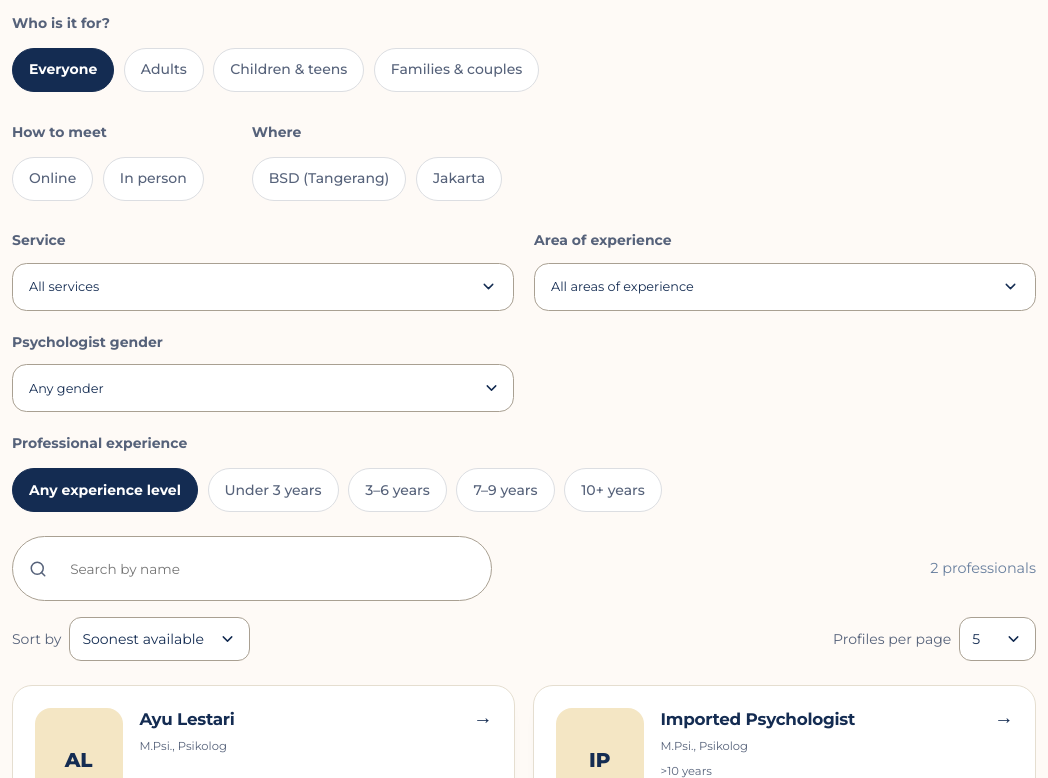
it: PsychologistSearch › filters database profiles with the service menu and experience pills
This screenshot has width=1048, height=778.
Check: the heading "Imported Psychologist →" is shown, box [661,708,1013,732]
Click the heading "All services" at (64, 287), box [12,263,514,311]
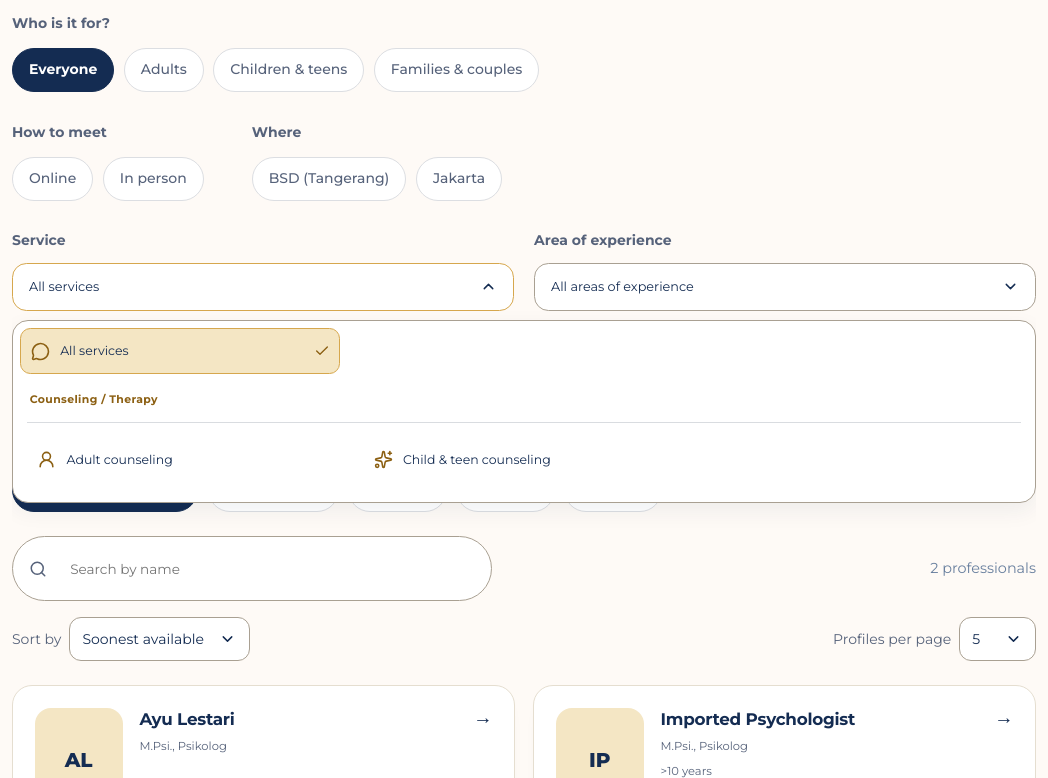
Click the button "Adult counseling" at (120, 459), box [27,437,349,483]
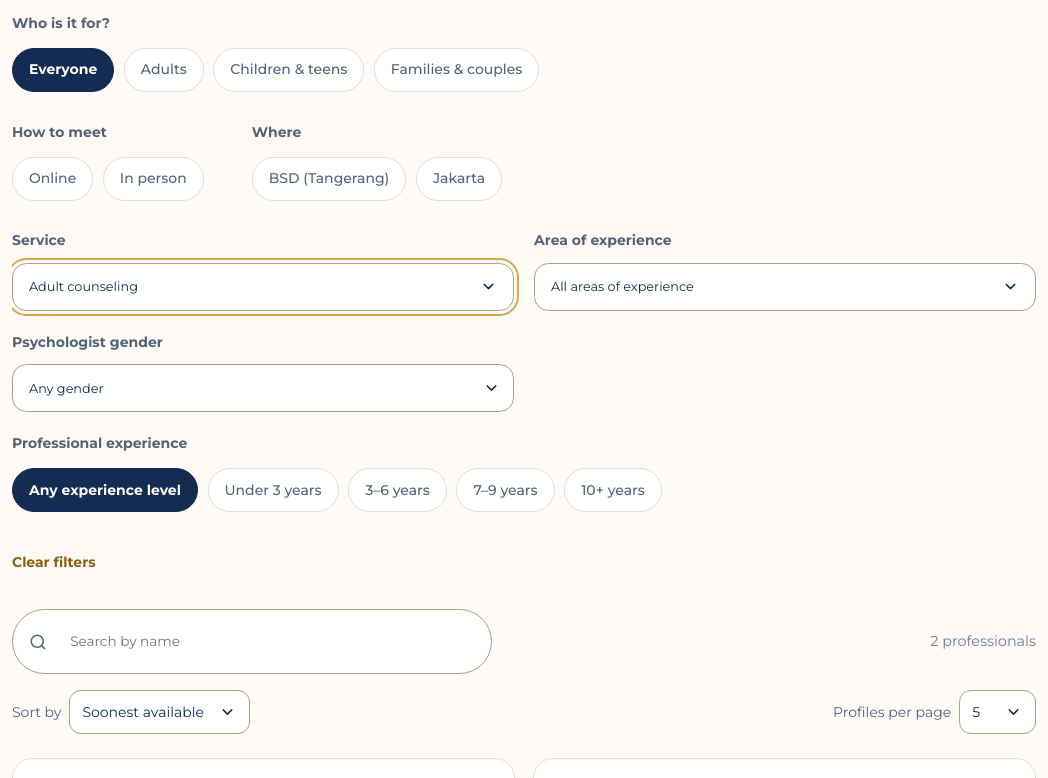
Click the button "10+ years" at (613, 490), box [564,468,662,512]
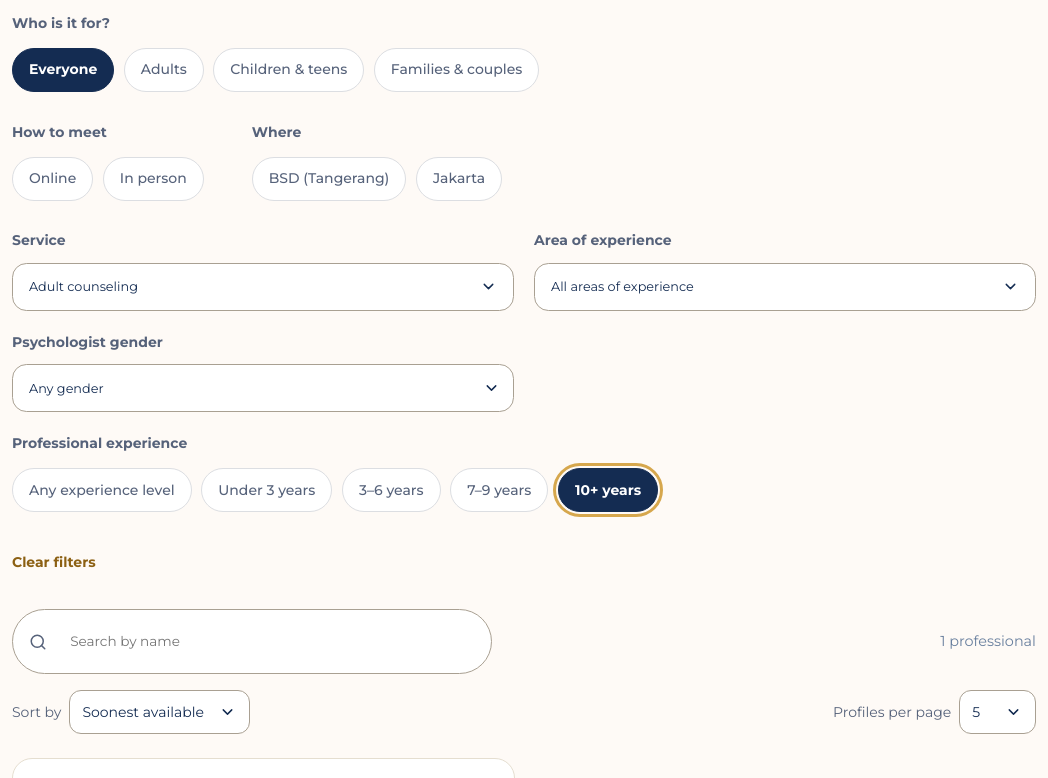
Check: the list item "Ayu Lestari" is not shown
Click the button "Clear filters" at (54, 563), box [12,541,96,585]
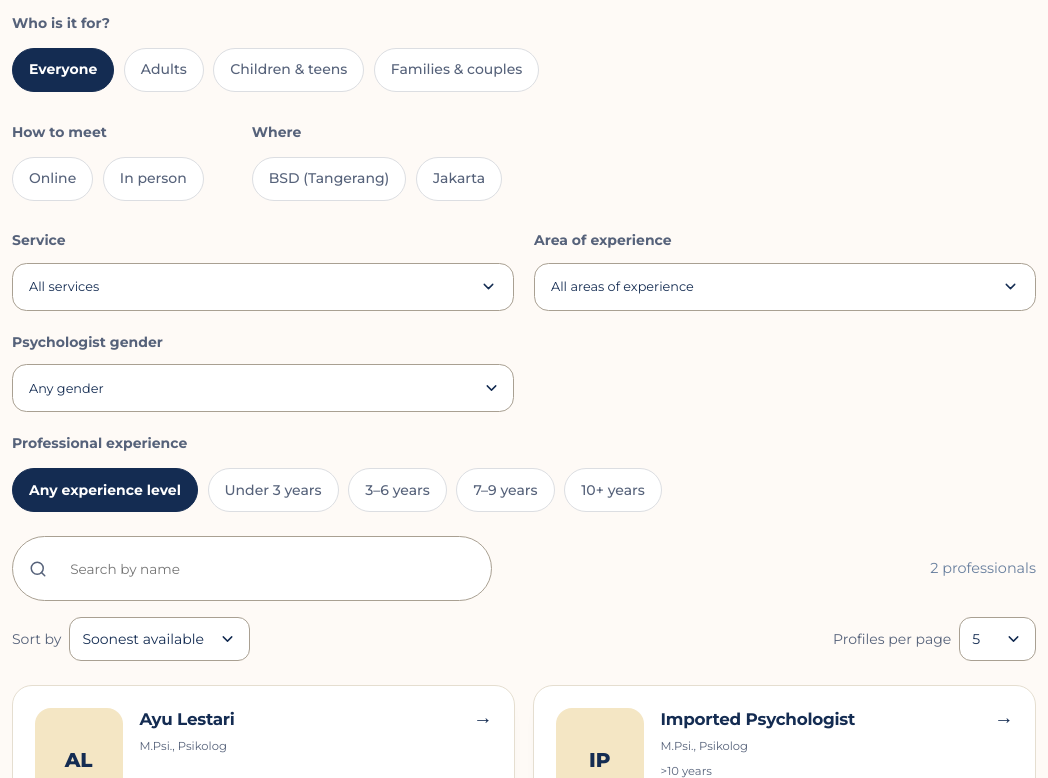
Check: the heading "Ayu Lestari →" is shown, box [139,708,492,732]
